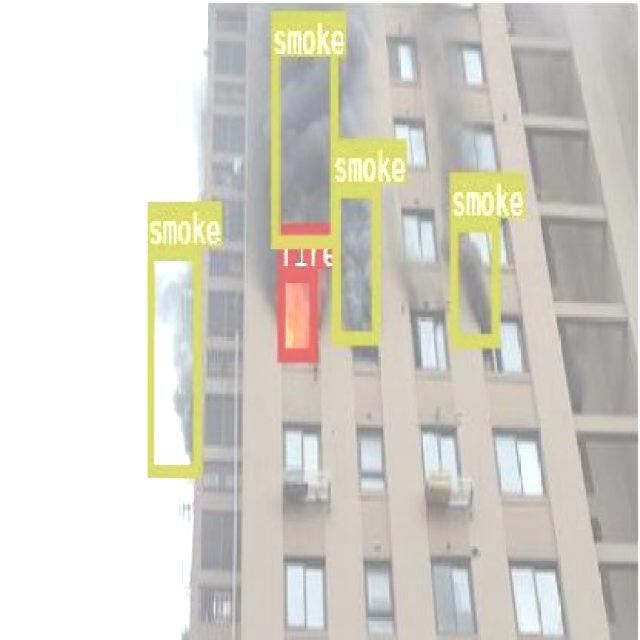fire: (278, 268, 314, 357)
smoke: (270, 8, 336, 244), (147, 245, 198, 473), (332, 182, 378, 342), (448, 218, 498, 344)
